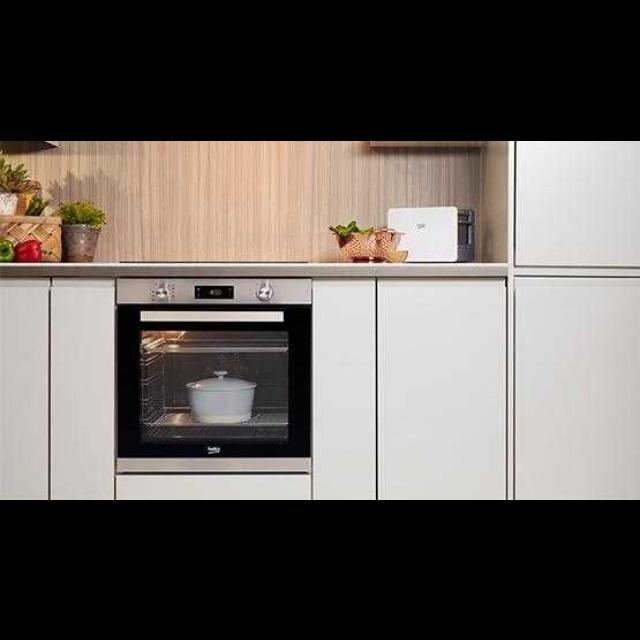Oven: (114, 300, 314, 488)
